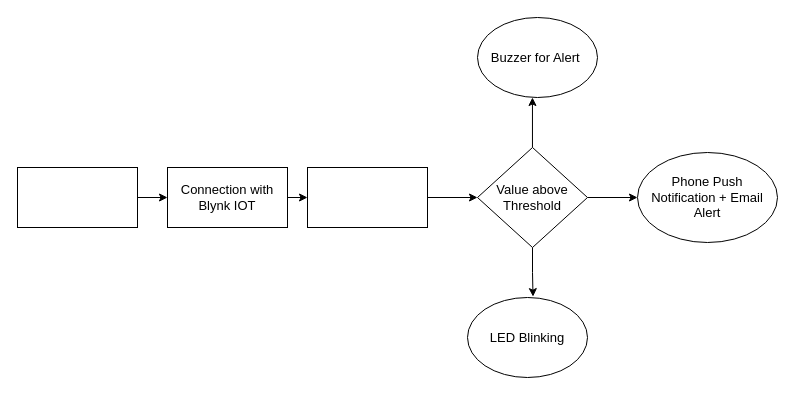
Some shapes in this 795 by 395 pixel diagram are drawn without their labels. Here are the shapes that lost their labels. From the top down, the centre of each, then its label:
At point (77, 197): "Code for NodeMCU".
At point (367, 197): "Input from Sensor".
